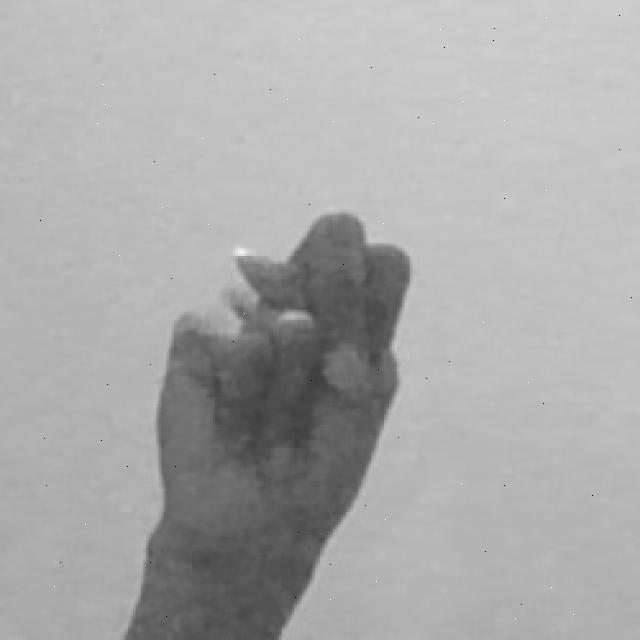N: (119, 199, 427, 640)
